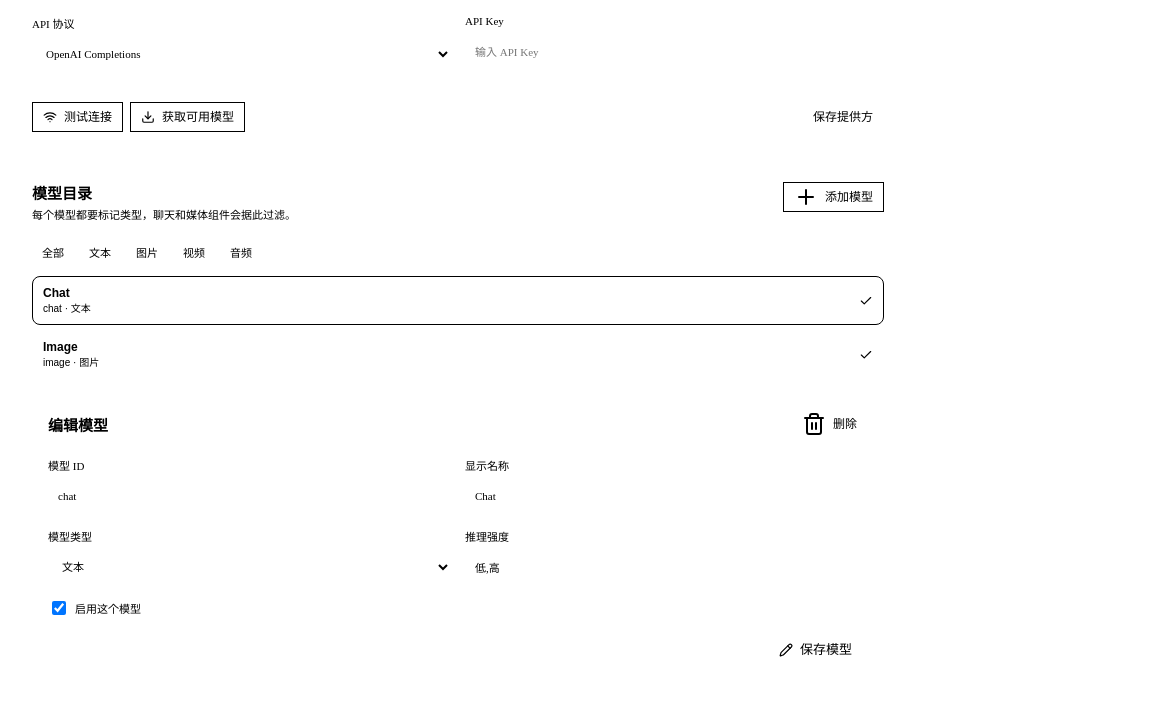
SettingsPage and ModelSettingsCard › keeps the catalog unchanged after a failed model save and permits retry
This screenshot has width=1152, height=716.
(page scrolled)
Step 1. Replace the text in the field labelled "显示名称" with "Renamed Chat" → [676, 496], box [465,478,888,514]
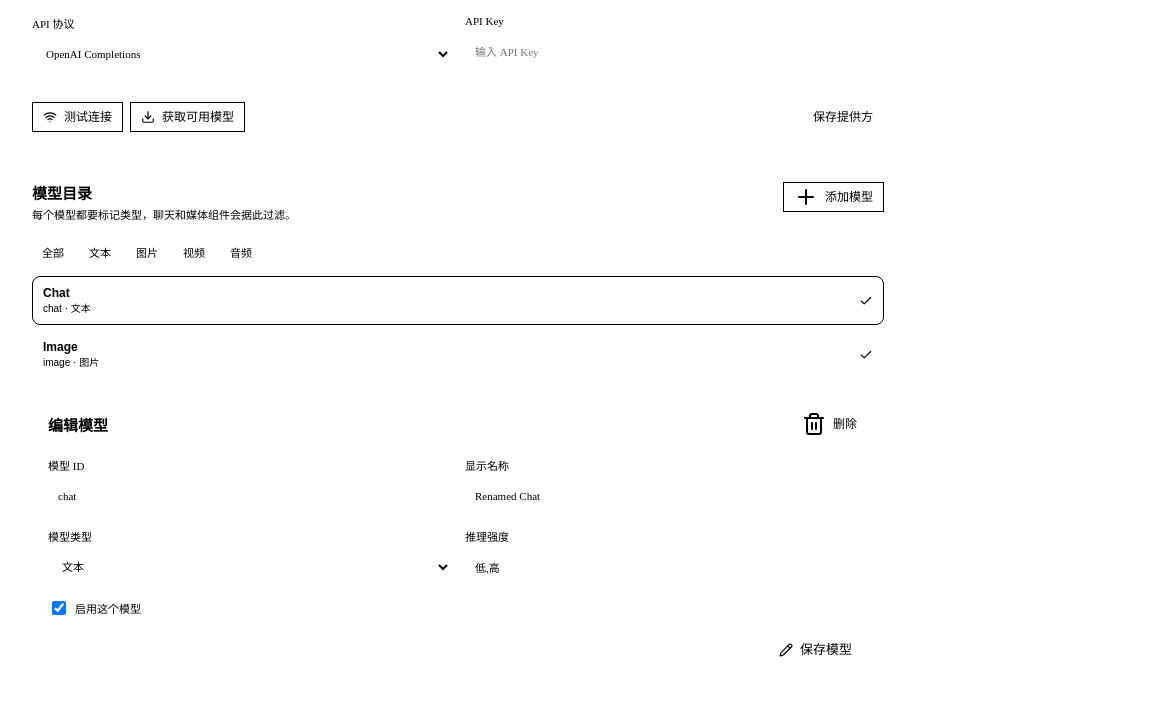
Step 2. Click the button "保存模型" → [816, 650], box [763,632,868,668]
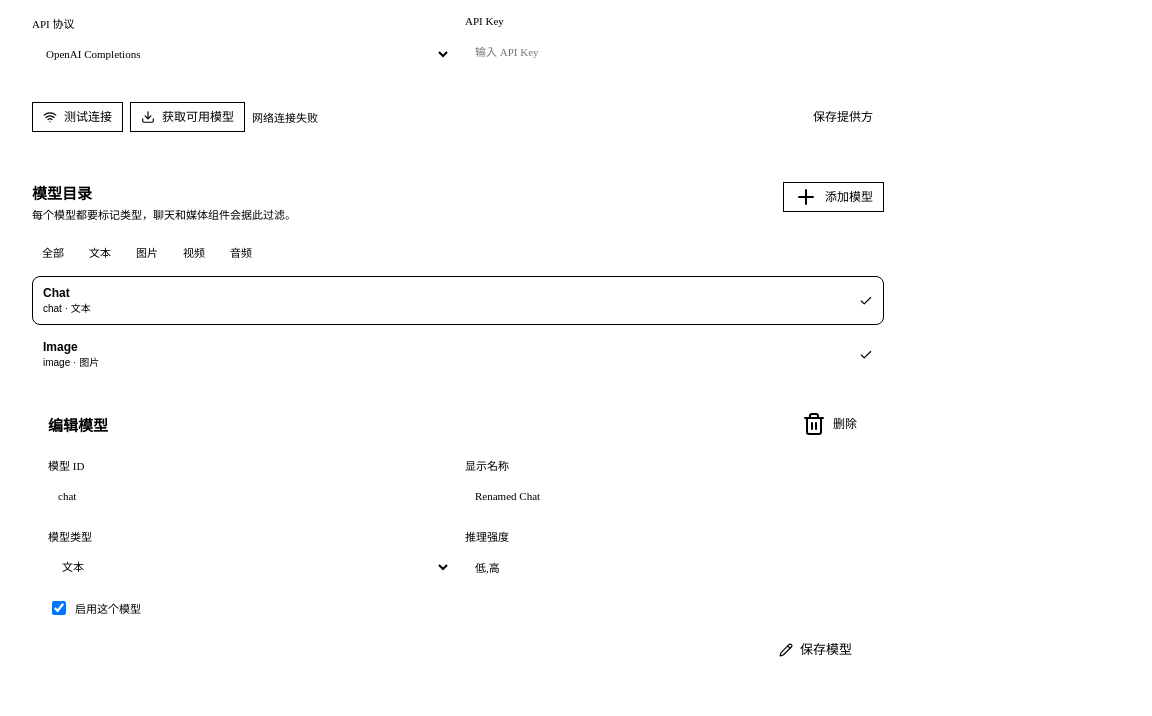
expect the button "Chat chat · 文本" is shown: met, box [32,276,884,325]
expect the text "网络连接失败" is shown: met, box [252,112,318,124]
Step 3. Click the button "保存模型" → [816, 650], box [763,632,868,668]
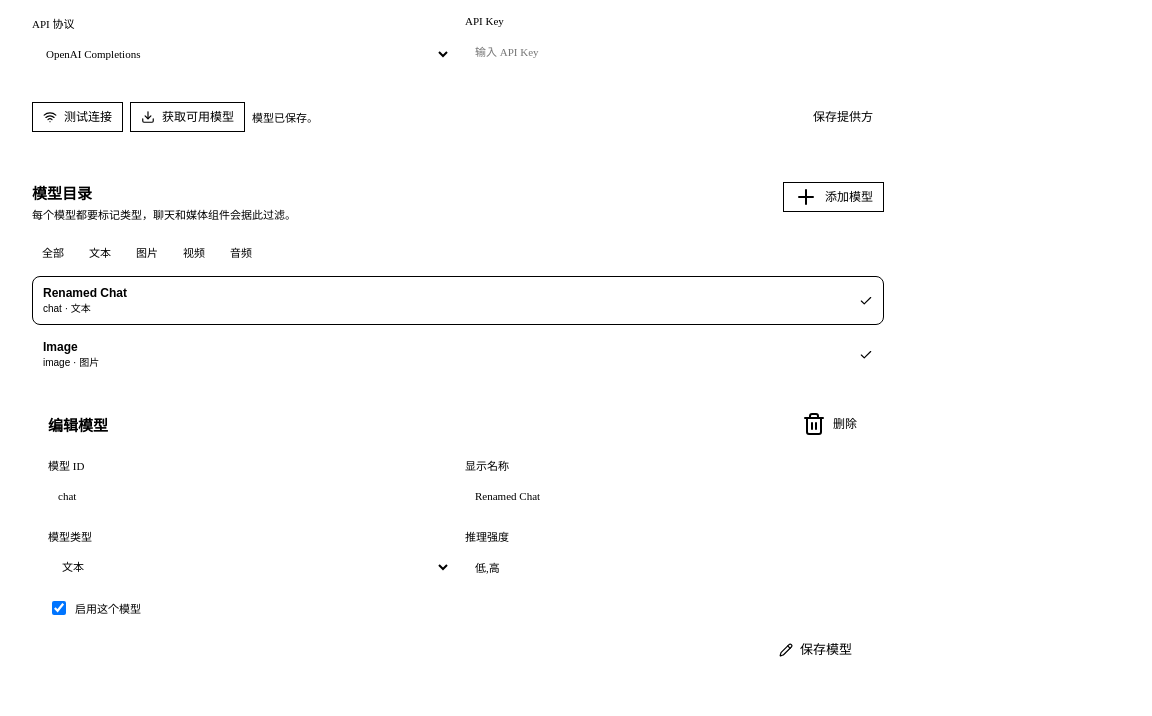
expect the text "模型已保存。" is shown: met, box [252,112,318,124]
expect the button "Renamed Chat chat · 文本" is shown: met, box [32,276,884,325]
